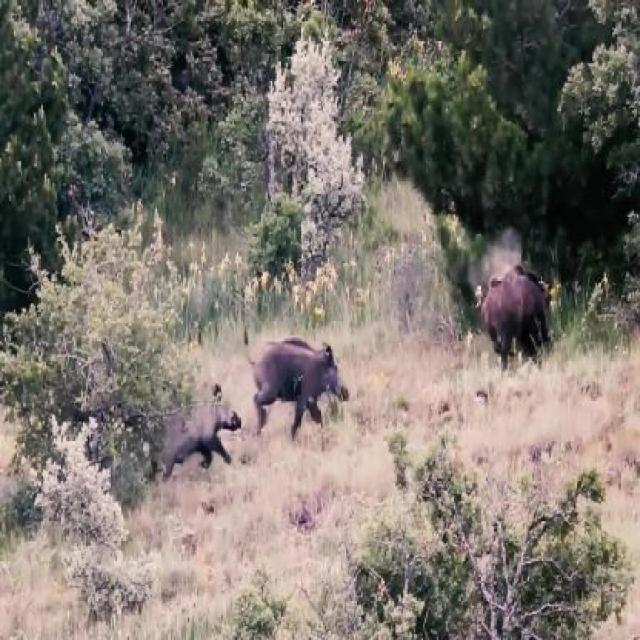pig: (232, 292, 360, 452), (132, 362, 251, 508), (463, 248, 566, 409)
